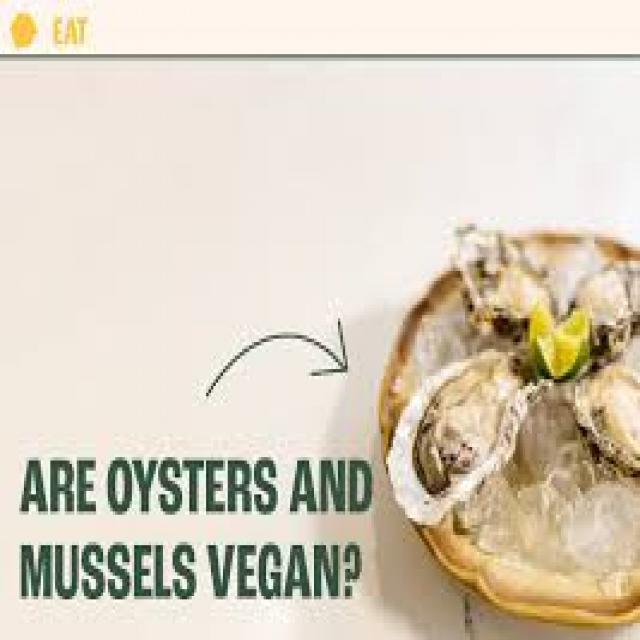Oyster-Open: (381, 341, 553, 545), (443, 208, 566, 344), (565, 351, 640, 497), (559, 236, 640, 368)
